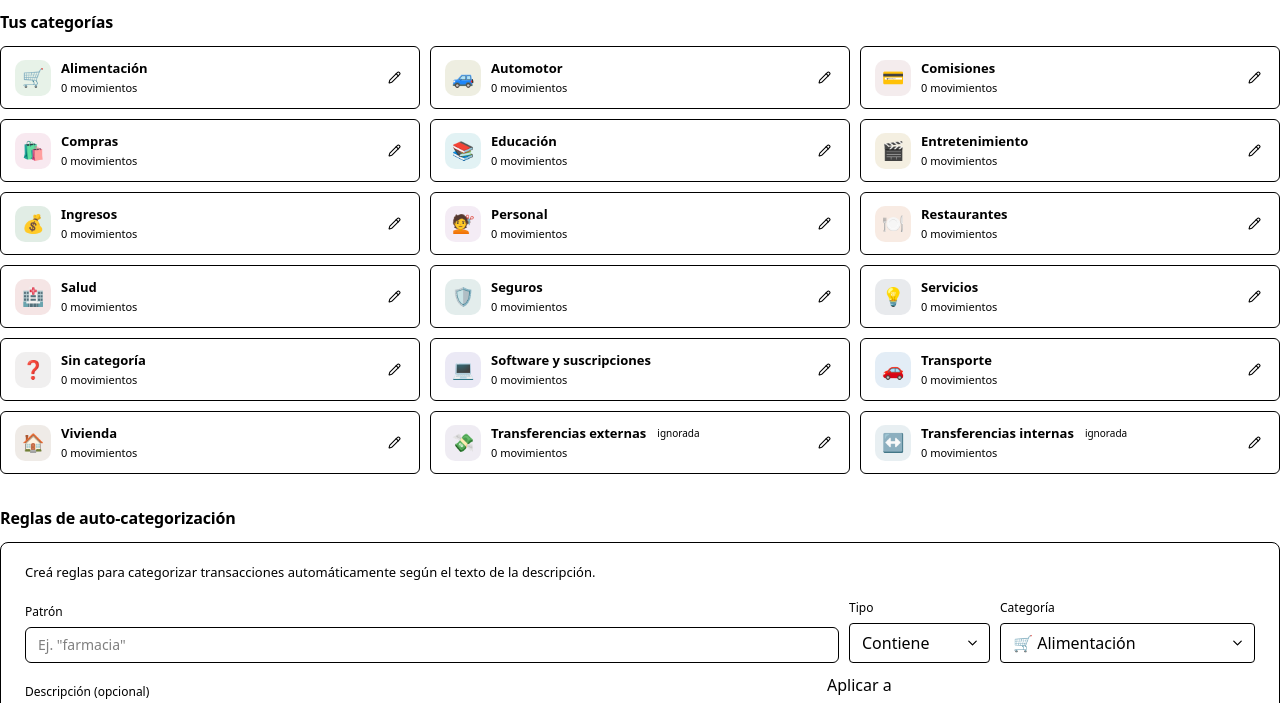
Test: Categories › reports how many past transactions a new rule was applied to
Step 1. Type "farmashop" into the field with placeholder "Ej. \"farmacia\"" → coordinates (432, 644), box [25,626,839,662]
(page scrolled)
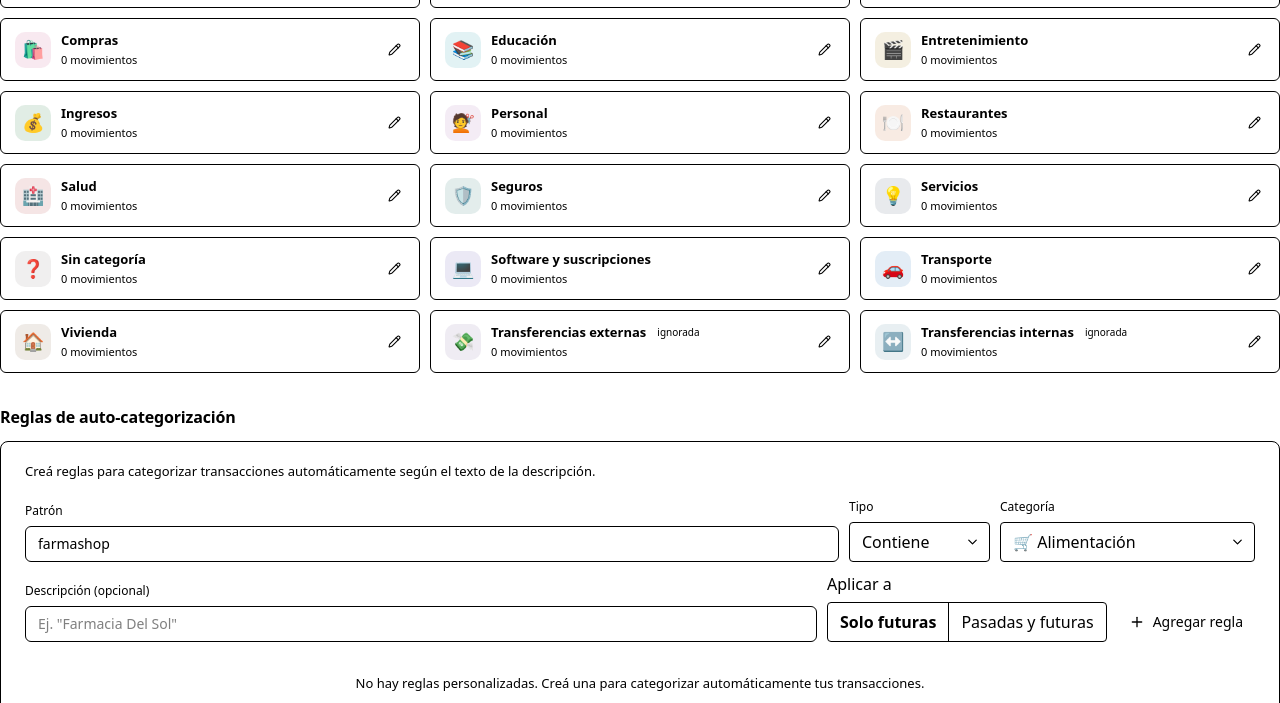
Step 2. Click the radio button labelled "Pasadas y futuras" → coordinates (1027, 622), box [948,602,1106,640]
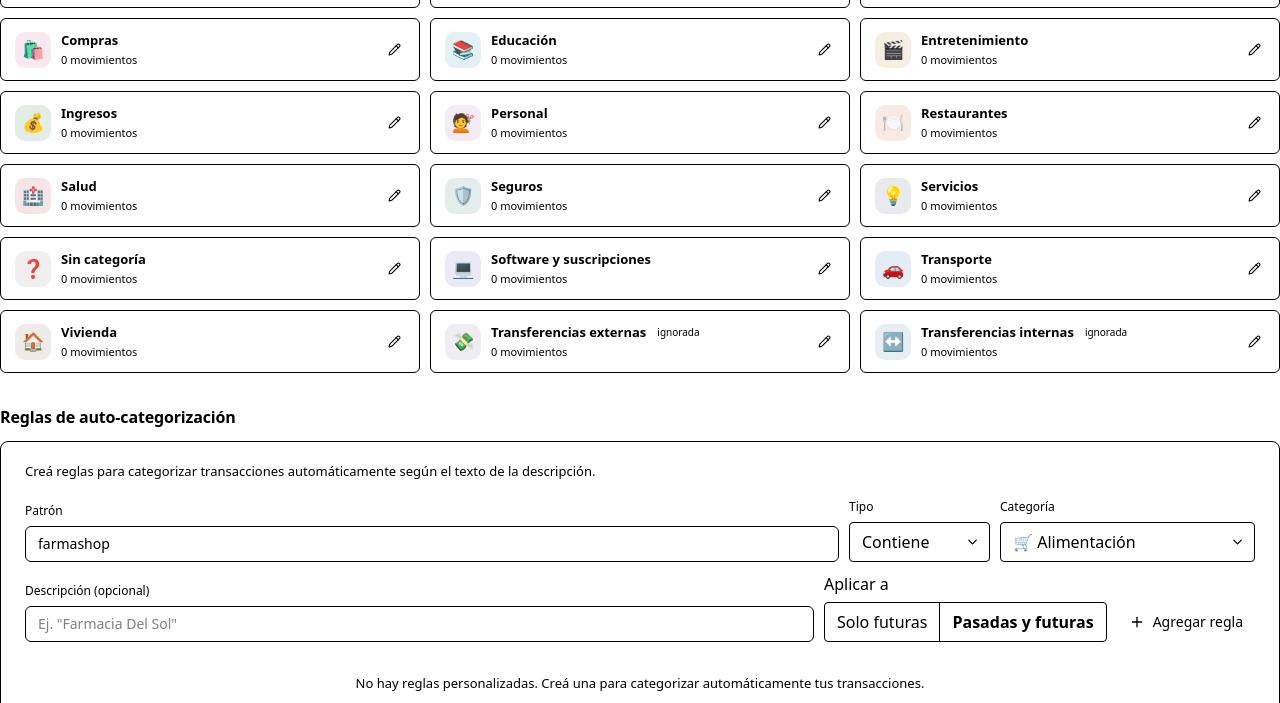
Step 3. Click the button "Agregar regla" → coordinates (1186, 622), box [1117,602,1255,642]
(page scrolled)
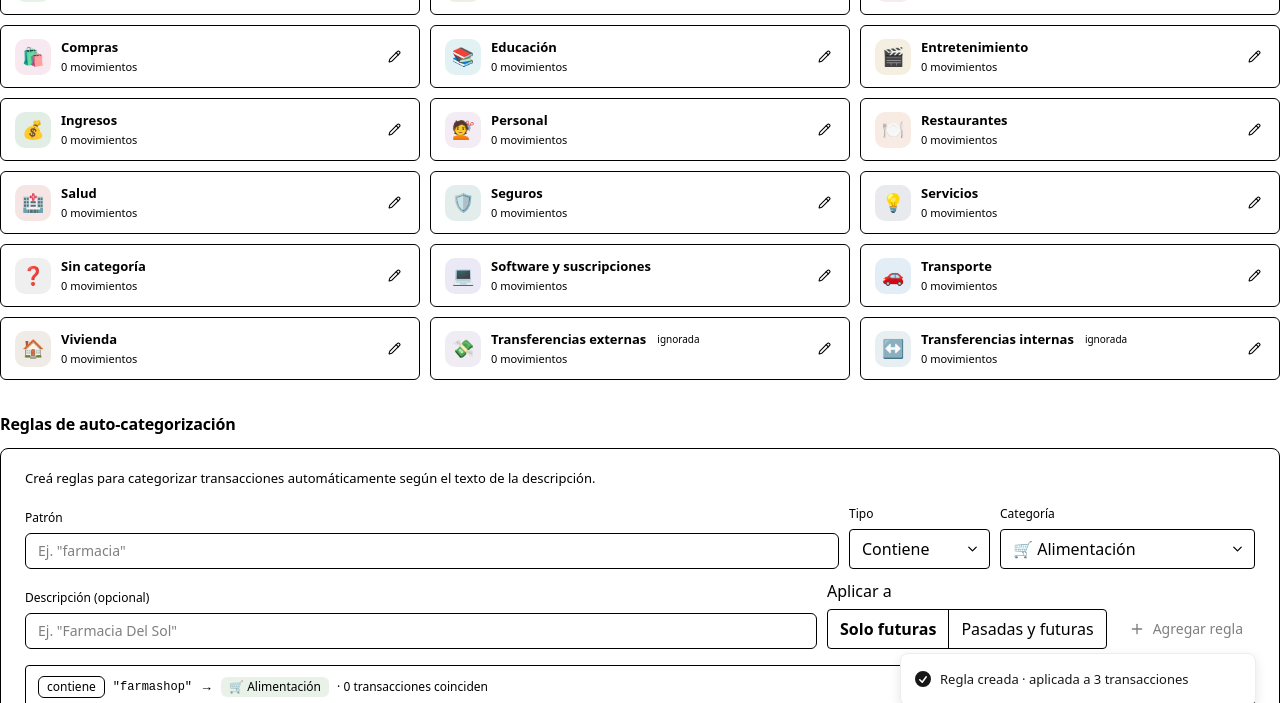
Expected: the text "Regla creada · aplicada a 3 transacciones" is shown, [940,670,1189,689]
